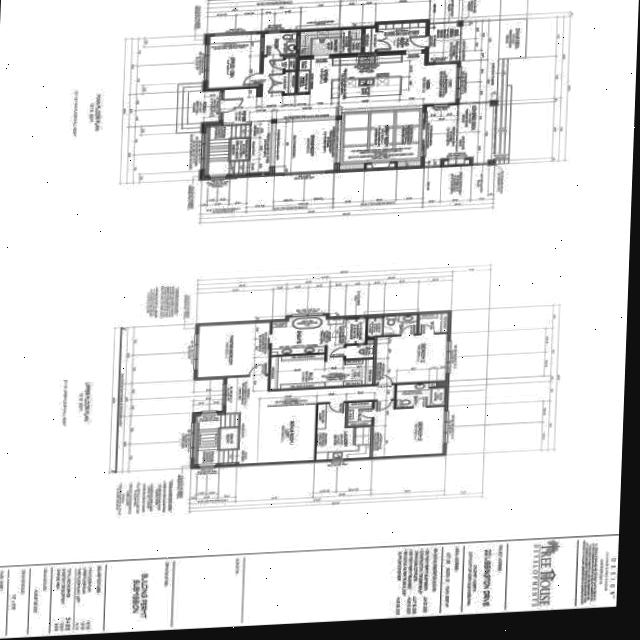room: (265, 313, 373, 390), (194, 322, 272, 378), (372, 400, 444, 460), (372, 334, 449, 384), (315, 402, 370, 462), (207, 33, 260, 90), (297, 28, 363, 56), (375, 22, 427, 52), (394, 382, 445, 408), (366, 315, 417, 336), (261, 32, 297, 55), (417, 313, 448, 334), (345, 402, 372, 426), (344, 340, 374, 359), (363, 28, 375, 53), (284, 71, 295, 94), (284, 57, 295, 71)
